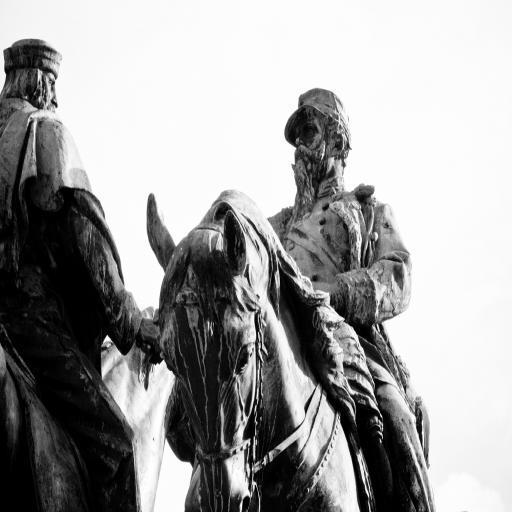horse: (146, 196, 428, 512), (0, 304, 178, 512)
